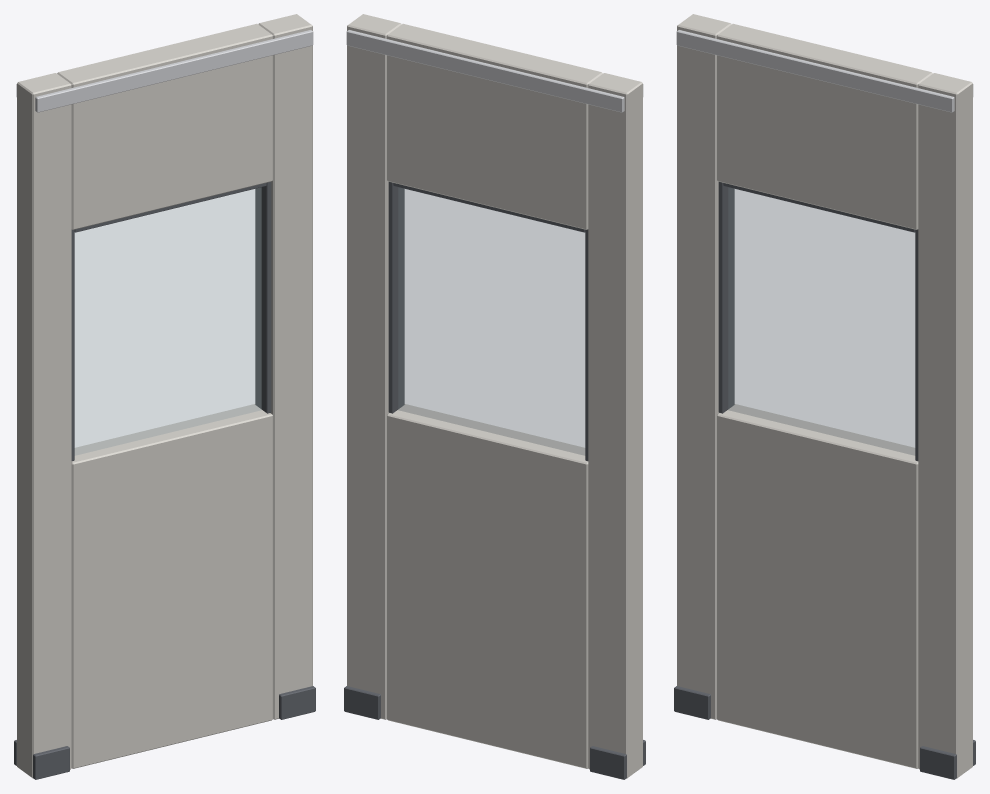
Rendered from university-lecture-hall-and-campus-corridor-wall-modul-34e44617__34773.glb.
The picture shows the model from 3 angles, left to right: view 1: azimuth 30°, elevation 25°; view 2: azimuth 150°, elevation 25°; view 3: azimuth 330°, elevation 25°; orthographic projection.
Parts seen in each view (by area): view 1: corridor-wall-module; view 2: corridor-wall-module; view 3: corridor-wall-module.
Boxes of the visible parts, x1,y1,x2,y2 form: corridor-wall-module: (14,14,315,779); corridor-wall-module: (344,14,645,779); corridor-wall-module: (674,14,975,779).
Bounding box in the file's own units: 1.2 × 2.8 × 0.16.
